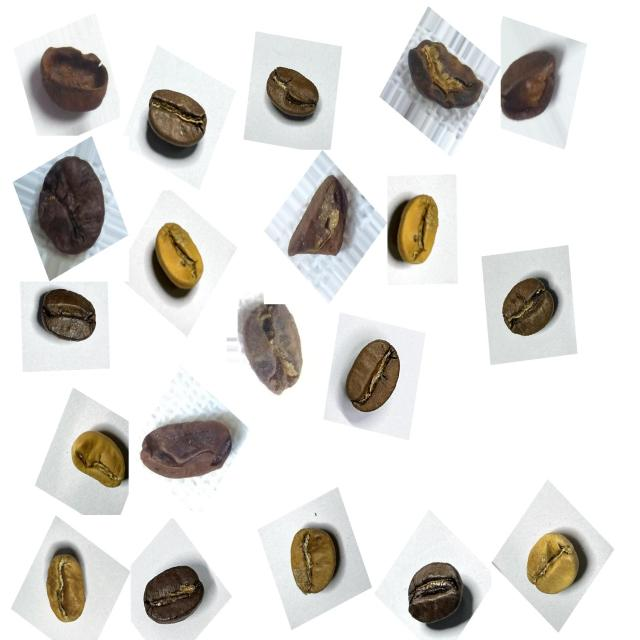bad: (27, 148, 118, 268), (140, 402, 241, 495), (236, 298, 315, 405), (30, 36, 116, 130), (402, 30, 488, 124), (494, 34, 572, 134), (285, 167, 361, 269)
dark: (398, 547, 475, 637), (133, 555, 211, 640), (33, 278, 108, 358)
light: (381, 182, 455, 279), (141, 215, 214, 311), (518, 520, 592, 610), (276, 518, 347, 610), (33, 540, 98, 636), (63, 415, 132, 498)
medium: (337, 329, 415, 427), (139, 75, 219, 167), (490, 265, 566, 353), (258, 55, 330, 135)
